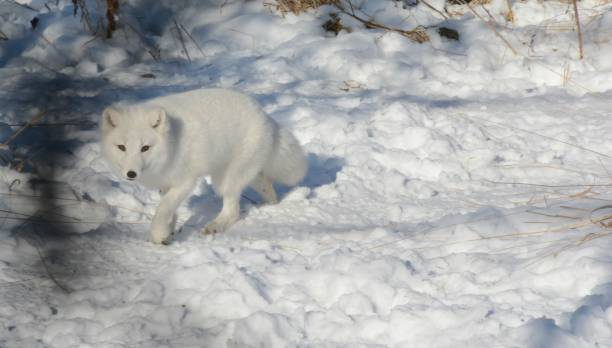arcticfox: (102, 107, 174, 202)
